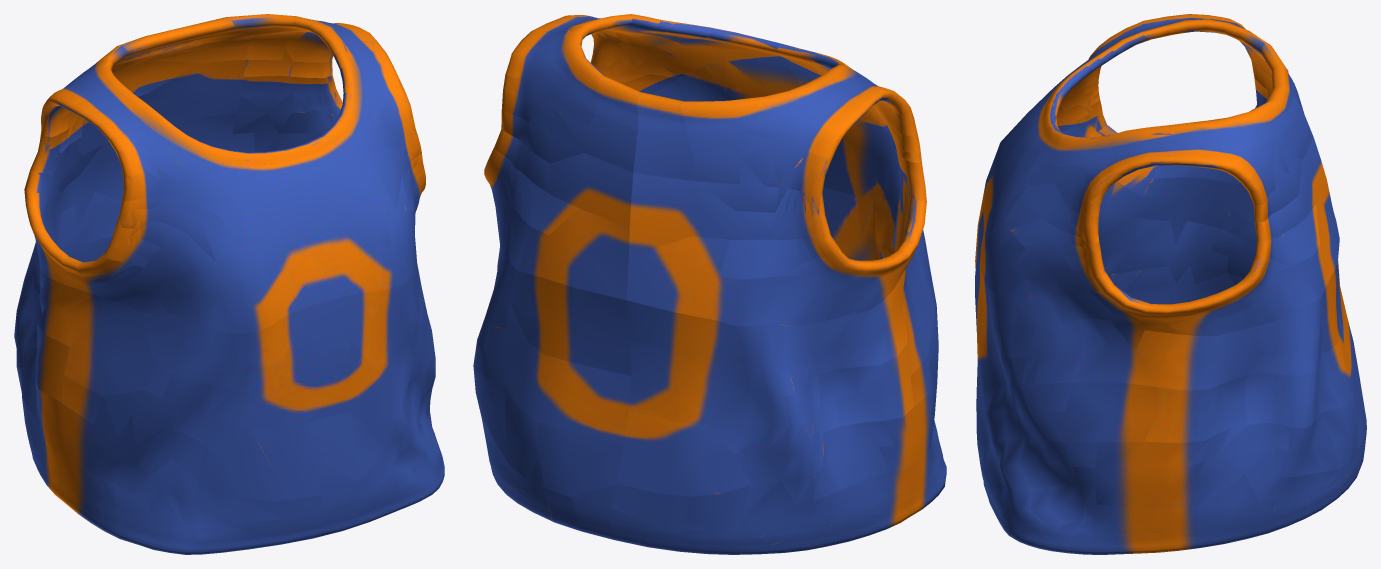
The model's file is Warmup-Blue-Orange.glb.
The picture shows the model from 3 angles, left to right: view 1: azimuth 30°, elevation 25°; view 2: azimuth 150°, elevation 25°; view 3: azimuth 270°, elevation 25°; orthographic projection. The views are drawn at different scales.
Parts seen in each view (by area): view 1: Warmup-Blue-Orange; view 2: Warmup-Blue-Orange; view 3: Warmup-Blue-Orange.
Part boxes in pixels (x1,y1,x2,y2): Warmup-Blue-Orange: [14, 14, 444, 554]; Warmup-Blue-Orange: [473, 14, 946, 554]; Warmup-Blue-Orange: [975, 14, 1366, 554].
Size of the model in its own units: 0.3436 by 0.364 by 0.316.
Materials: 1 (1 with a texture image).
